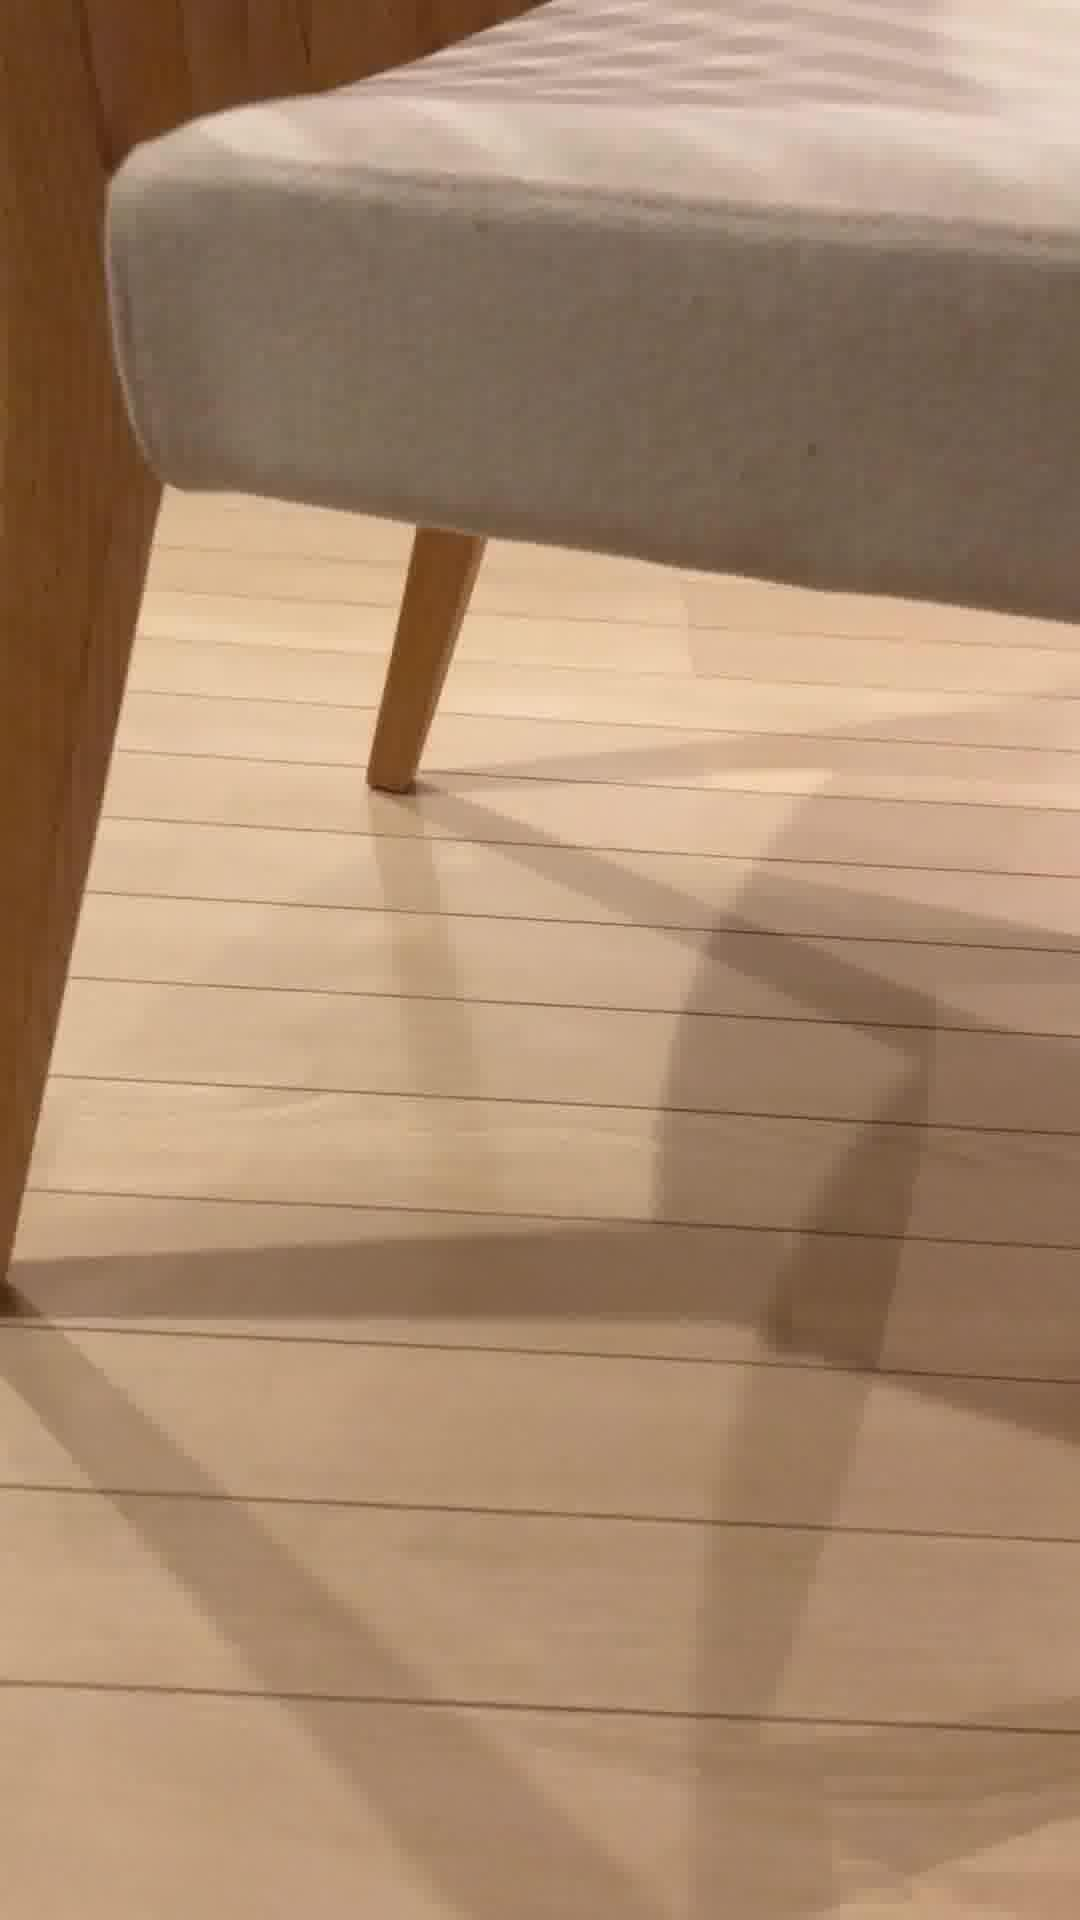takumikan-chair: (0, 0, 1080, 1298)
